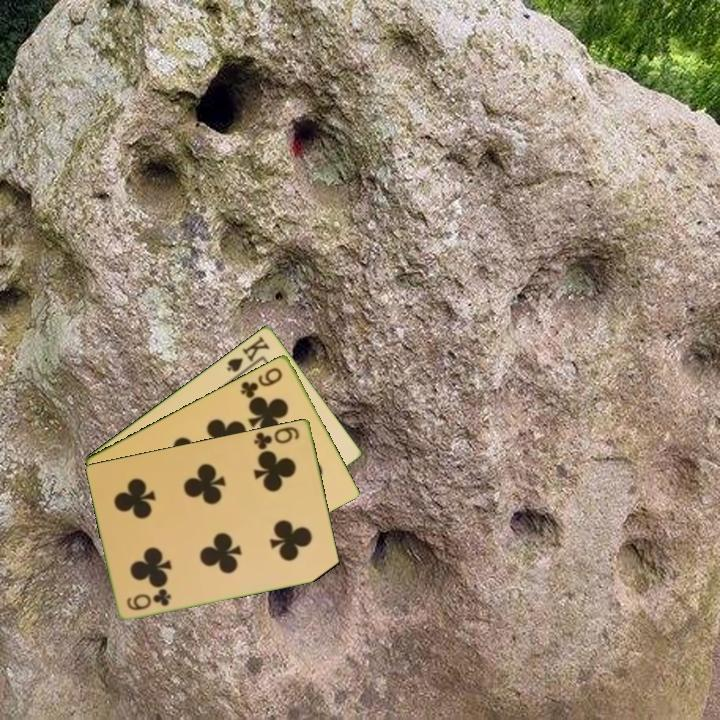6c: (250, 422, 302, 452), (123, 586, 174, 613)
9c: (237, 363, 285, 401)
Ks: (223, 332, 273, 380)
